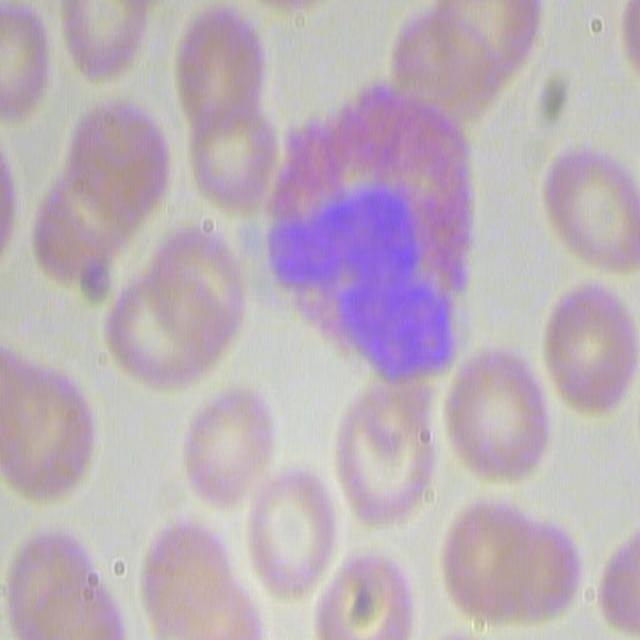RBC: (34, 98, 170, 330), (104, 221, 239, 395), (436, 492, 580, 632), (384, 0, 540, 119), (11, 523, 166, 640), (328, 378, 435, 533), (144, 523, 282, 640), (232, 472, 341, 616), (178, 83, 290, 219), (440, 348, 552, 483), (537, 269, 637, 417), (0, 352, 91, 506), (540, 145, 637, 280), (176, 385, 273, 505), (172, 23, 283, 127), (308, 546, 414, 638), (53, 0, 150, 81), (0, 1, 48, 126), (599, 517, 640, 635)
WBC: (265, 96, 482, 402)
